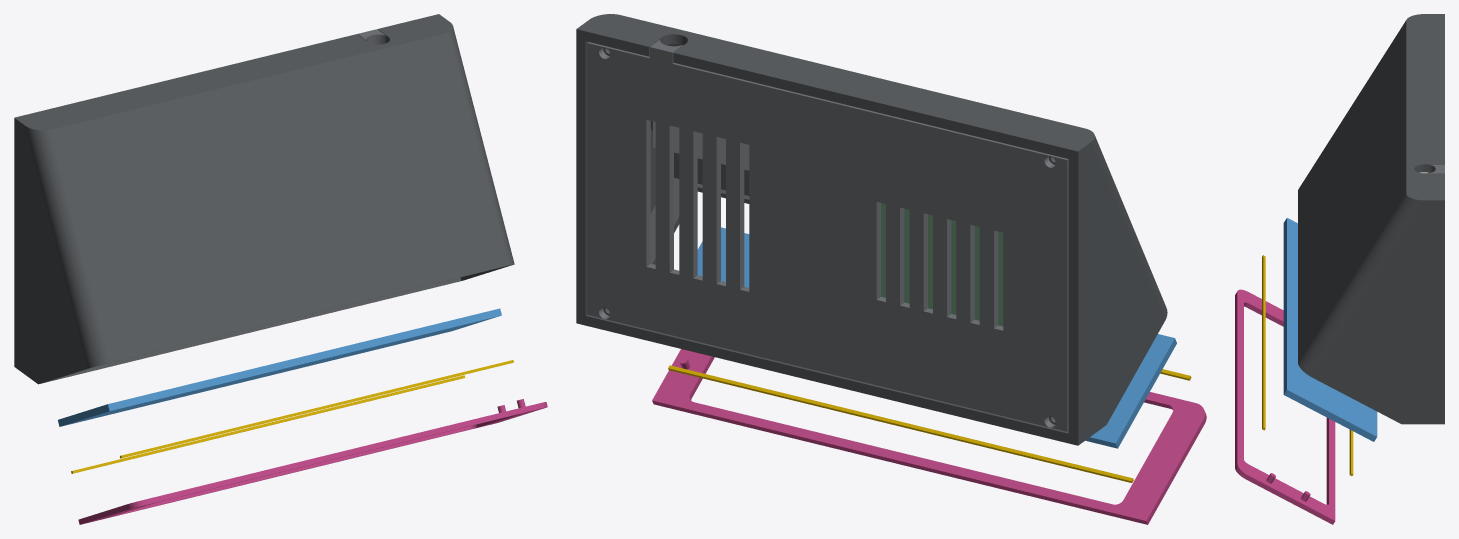
Rendered from asb-r4-exploded-preview.glb.
The picture shows the model from 3 angles, left to right: view 1: azimuth 30°, elevation 25°; view 2: azimuth 150°, elevation 25°; view 3: azimuth 270°, elevation 25°; orthographic projection. The views are drawn at different scales.
Parts seen in each view (by area): view 1: shell, lcd-dummy, bezel, gasket; view 2: bottom-cover, shell, bezel, lcd-dummy, qualia-dummy, gasket; view 3: shell, lcd-dummy, bezel, gasket.
Part boxes in pixels (x1,y1,x2,y2): shell: [14, 14, 514, 384]; lcd-dummy: [58, 308, 501, 426]; bezel: [78, 399, 547, 524]; gasket: [71, 360, 513, 473]; bottom-cover: [587, 39, 1068, 431]; shell: [576, 14, 1167, 445]; bezel: [652, 349, 1206, 524]; lcd-dummy: [697, 227, 1176, 448]; qualia-dummy: [881, 203, 1003, 326]; gasket: [668, 365, 1191, 482]; shell: [1298, 14, 1444, 424]; lcd-dummy: [1283, 218, 1377, 441]; bezel: [1235, 289, 1335, 524]; gasket: [1262, 255, 1353, 475].
Size of the model in its own units: 107 by 87.31 by 50.97.
